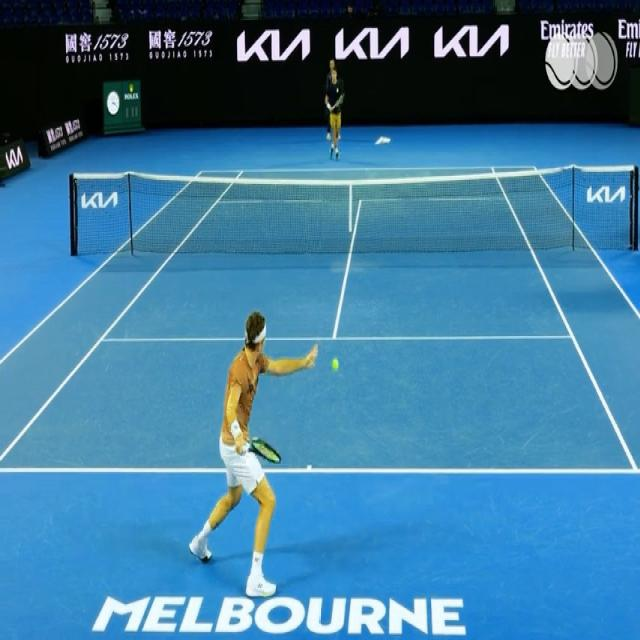forehand-ready: (190, 307, 320, 595)
